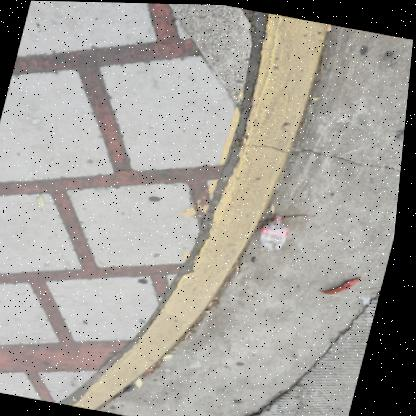Plastic: (264, 212, 294, 249)
Waste: (327, 22, 331, 29), (215, 301, 218, 305)
